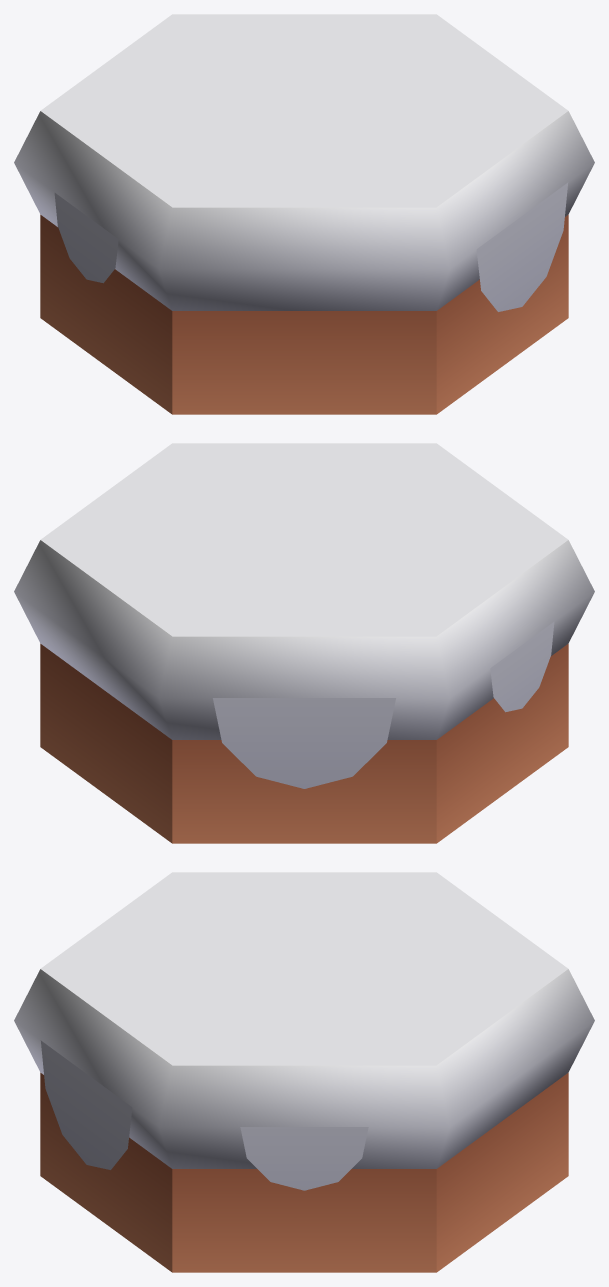
Rendered from block-snow-overhang-low-hexagon.glb.
3 renders of one model, top to bottom at view 1: azimuth 30°, elevation 25°; view 2: azimuth 150°, elevation 25°; view 3: azimuth 270°, elevation 25°, orthographic.
Visible parts, largest first — view 1: block-snow-overhang-low-hexagon; view 2: block-snow-overhang-low-hexagon; view 3: block-snow-overhang-low-hexagon.
Boxes of the visible parts, x1=… form: block-snow-overhang-low-hexagon: x1=14, y1=14, x2=594, y2=414; block-snow-overhang-low-hexagon: x1=14, y1=443, x2=594, y2=843; block-snow-overhang-low-hexagon: x1=14, y1=872, x2=594, y2=1272.
Bounding box in the file's own units: 1.1 × 0.5 × 1.27.
Materials: 1 (1 with a texture image).
